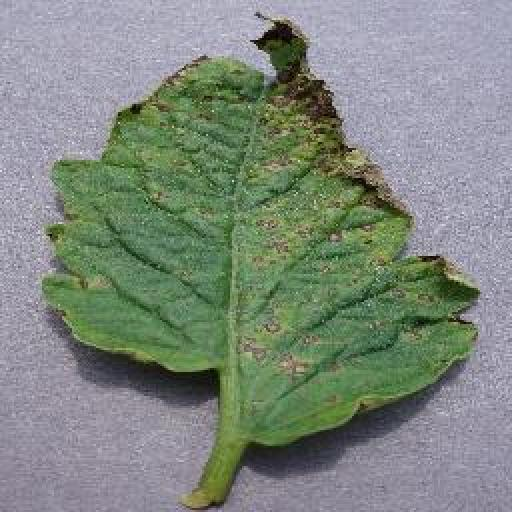disease_tomato: (47, 14, 483, 446)
